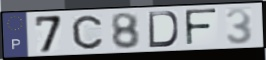3: (225, 7, 254, 46)
7: (34, 14, 63, 54)
8: (109, 11, 142, 50)
C: (70, 14, 104, 51)
D: (147, 10, 180, 49)
F: (183, 7, 219, 47)
